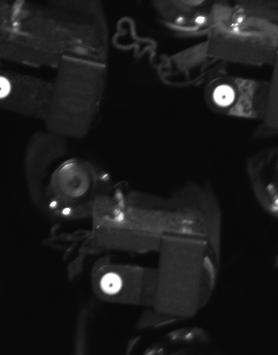fiber: (94, 269, 131, 301), (210, 79, 241, 115), (1, 70, 14, 105)
